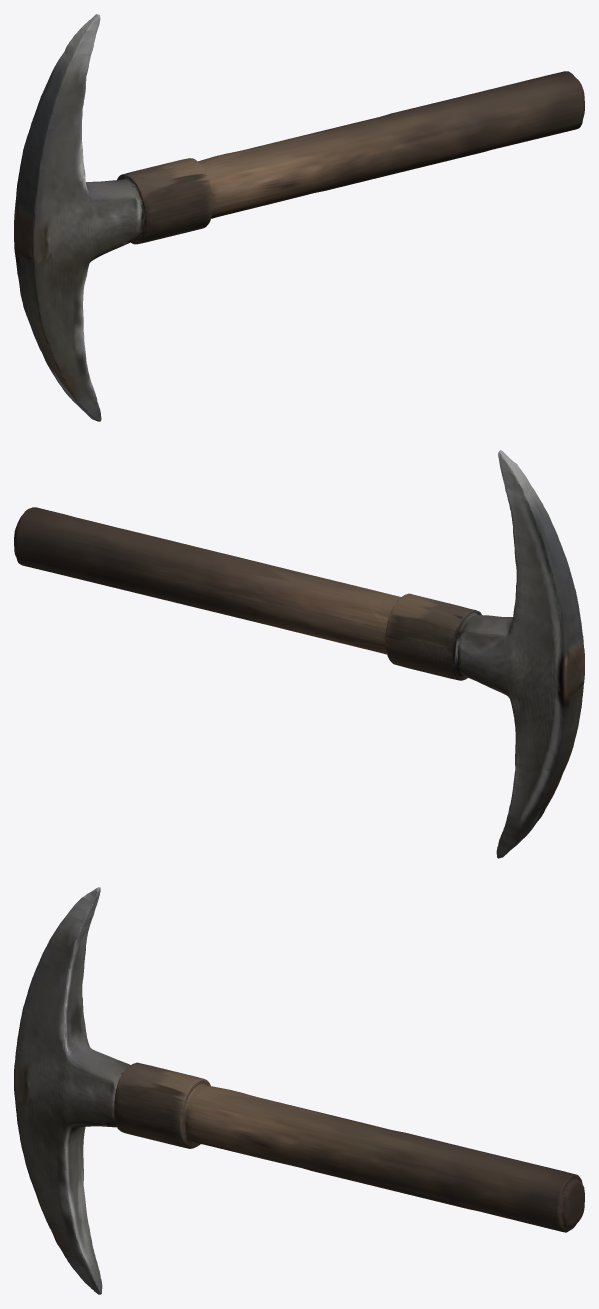
The model's file is pickaxe.fbx.
3 renders of one model, top to bottom at view 1: azimuth 30°, elevation 25°; view 2: azimuth 150°, elevation 25°; view 3: azimuth 330°, elevation 25°, orthographic.
Parts seen in each view (by area): view 1: pickaxe; view 2: pickaxe; view 3: pickaxe.
Part boxes in pixels (left/top/right/bottom): pickaxe: left=14, top=14, right=584, bottom=421; pickaxe: left=14, top=450, right=584, bottom=858; pickaxe: left=14, top=887, right=584, bottom=1294.
Bounding box in the file's own units: 0.4237 × 0.2976 × 0.0433.
